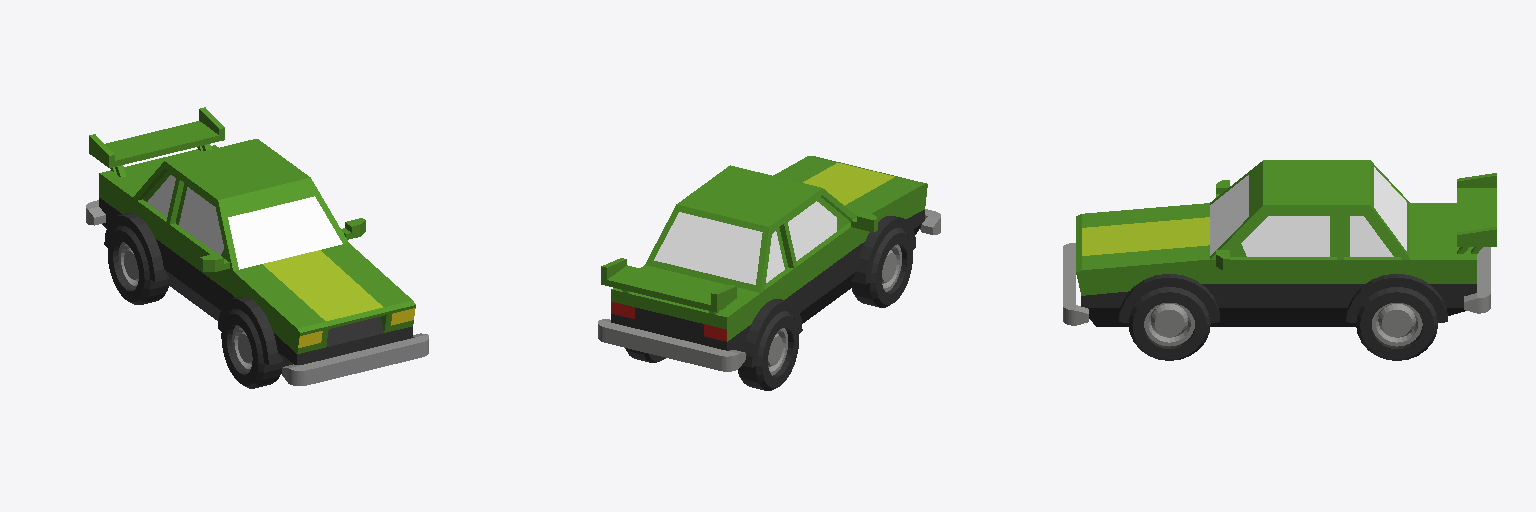
The model's file is car_sports_green.obj.
3 renders of one model, left to right at view 1: azimuth 30°, elevation 25°; view 2: azimuth 150°, elevation 25°; view 3: azimuth 270°, elevation 25°, orthographic.
Parts seen in each view (by area): view 1: mergedBlocks; view 2: mergedBlocks; view 3: mergedBlocks.
Part boxes in pixels (left/top/right/bottom): mergedBlocks: left=86, top=107, right=428, bottom=388; mergedBlocks: left=598, top=156, right=940, bottom=390; mergedBlocks: left=1063, top=160, right=1496, bottom=360.
Bounding box in the file's own units: 1.4 × 1.21 × 3.25.